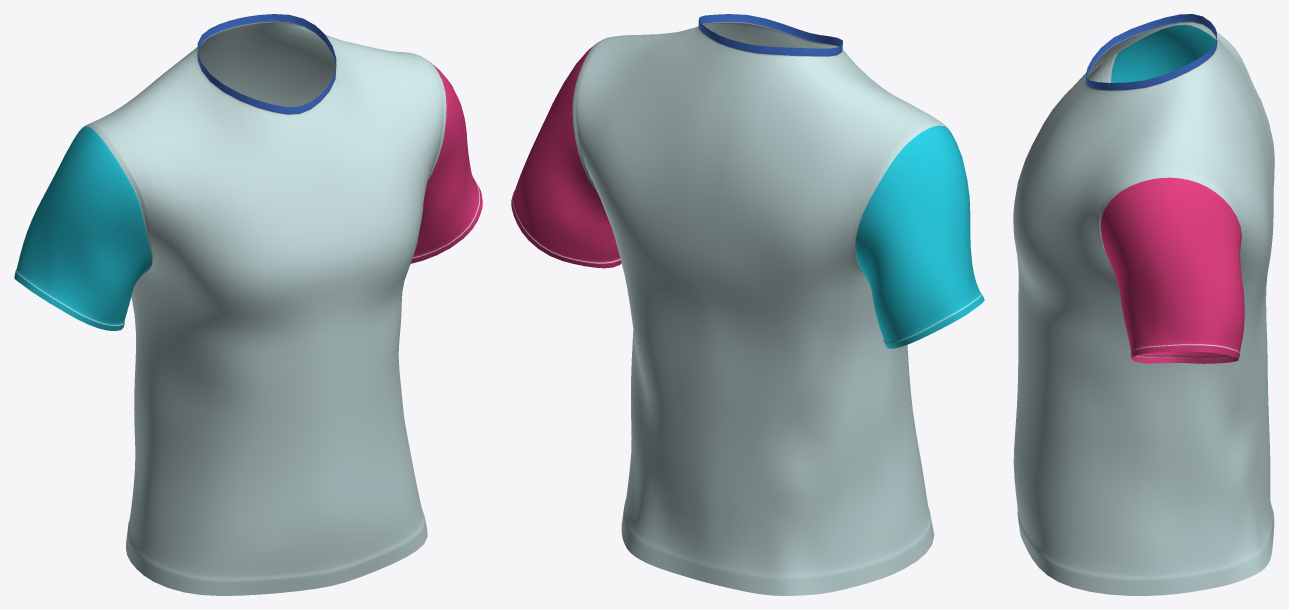
The model's file is T-shirt-indcuff.gltf.
The picture shows the model from 3 angles, left to right: view 1: azimuth 30°, elevation 25°; view 2: azimuth 150°, elevation 25°; view 3: azimuth 270°, elevation 25°; orthographic projection. The views are drawn at different scales.
Parts seen in each view (by area): view 1: Plane_Plane.008; view 2: Plane_Plane.008; view 3: Plane_Plane.008.
Part boxes in pixels (x1,y1,x2,y2): Plane_Plane.008: (14,14,482,595); Plane_Plane.008: (511,14,984,595); Plane_Plane.008: (1013,14,1274,595).
Bounding box in the file's own units: 1.01 × 1.09 × 0.5179.
